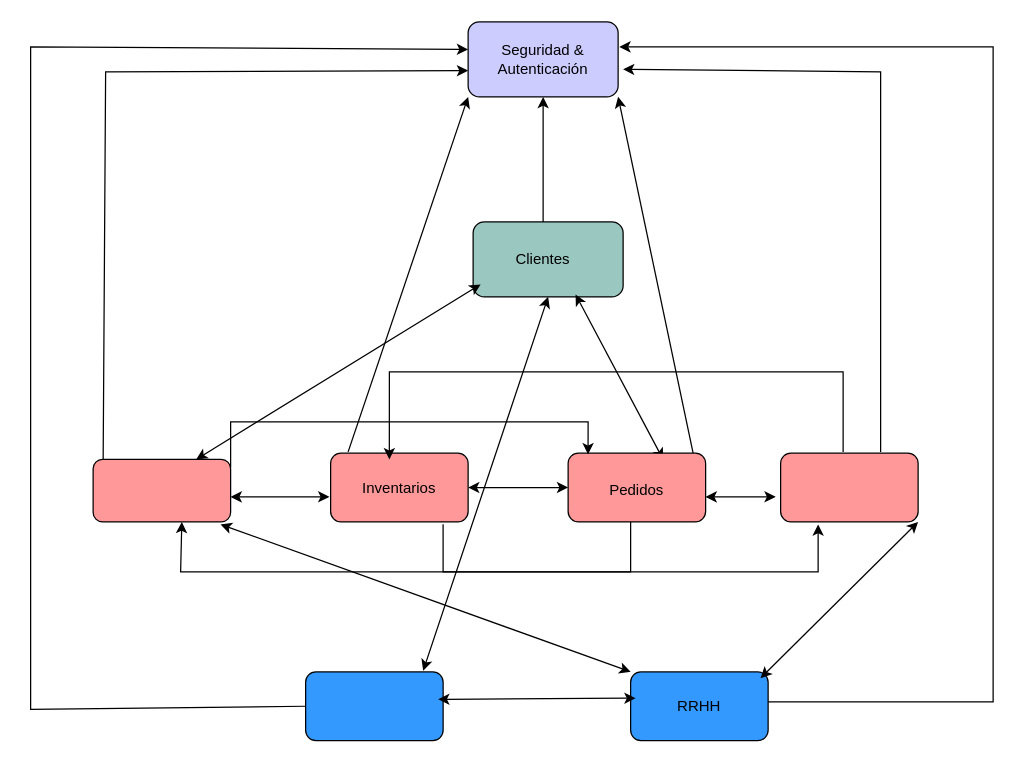
The diagram is 1025 pixels wide and 763 high, and some of its shapes have lost their labels. Here are the shapes that lost their labels. From the top down, the box of each, then its label:
(92, 458, 231, 522): Ventas
(779, 452, 918, 522): Proveedores
(304, 671, 443, 741): IT
